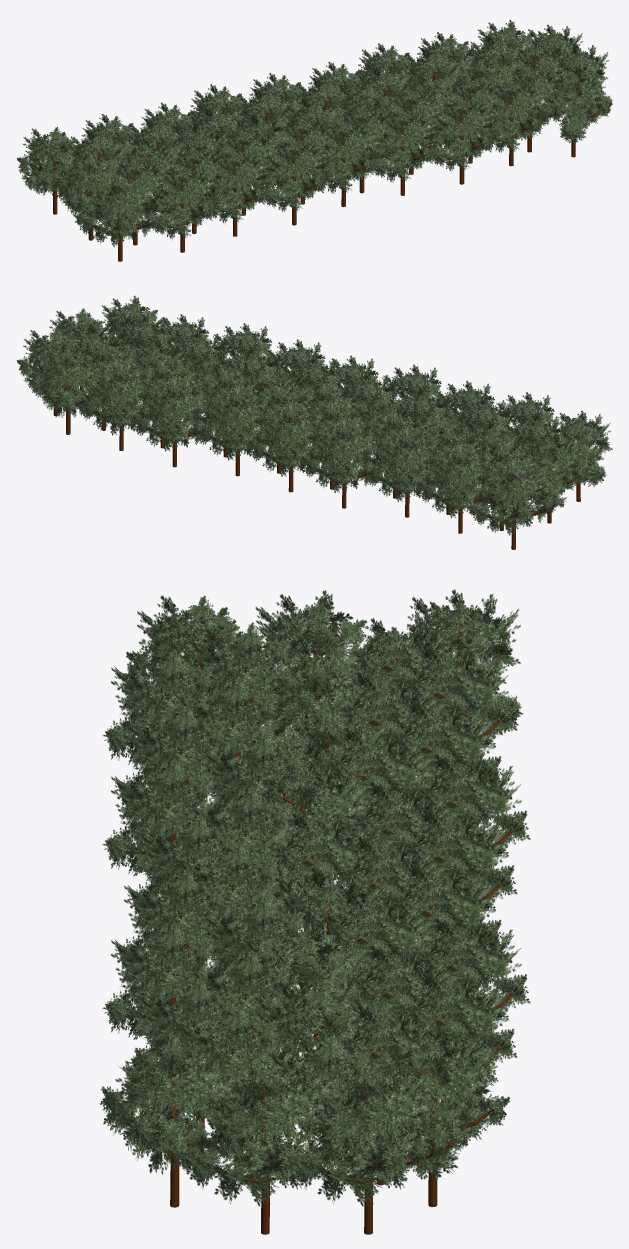
Rendered from treegrove2.glb.
The picture shows the model from 3 angles, top to bottom: view 1: azimuth 30°, elevation 25°; view 2: azimuth 150°, elevation 25°; view 3: azimuth 270°, elevation 25°; orthographic projection. The views are drawn at different scales.
Visible parts, largest first — view 1: treelineEW, treelineEW.006, treelineEW.003, treelineEW.001, treelineEW.005, treelineEW.002, treelineEW.008, treelineEW.004, treelineEW.007, treelineEW4, treelineTop, treelineEW2 (+33 smaller); view 2: treelineEW4, treelineEW4.003, treelineEW4.006, treelineEW4.001, treelineEW4.004, treelineEW4.007, treelineEW4.002, treelineEW4.005, treelineEW4.008, treelineTop, treelineEW, treelineEW3.008 (+33 smaller); view 3: treelineEW2.008, treelineEW3.008, treelineEW.008, treelineEW4.008, treelineEW.003, treelineEW.006, treelineEW4, treelineEW4.007, treelineEW4.003, treelineEW.001, treelineEW4.006, treelineEW4.001 (+33 smaller).
Boxes of the visible parts, bbox=[...] form: treelineEW: bbox=[72, 175, 171, 261]; treelineEW.006: bbox=[430, 97, 506, 184]; treelineEW.003: bbox=[262, 138, 339, 225]; treelineEW.001: bbox=[149, 165, 227, 252]; treelineEW.005: bbox=[371, 108, 445, 195]; treelineEW.002: bbox=[201, 149, 277, 236]; treelineEW.008: bbox=[542, 66, 612, 157]; treelineEW.004: bbox=[310, 120, 385, 207]; treelineEW.007: bbox=[478, 79, 555, 166]; treelineEW4: bbox=[17, 127, 80, 214]; treelineTop: bbox=[56, 152, 125, 240]; treelineEW2: bbox=[102, 158, 172, 245]; treelineEW4: bbox=[466, 462, 566, 549]; treelineEW4.003: bbox=[298, 420, 389, 508]; treelineEW4.006: bbox=[128, 379, 220, 467]; treelineEW4.001: bbox=[414, 445, 492, 533]; treelineEW4.004: bbox=[244, 404, 325, 492]; treelineEW4.007: bbox=[76, 362, 155, 450]; treelineEW4.002: bbox=[361, 429, 441, 517]; treelineEW4.005: bbox=[192, 388, 272, 476]; treelineEW4.008: bbox=[31, 346, 105, 434]; treelineTop: bbox=[517, 432, 588, 523]; treelineEW: bbox=[540, 410, 612, 501]; treelineEW3.008: bbox=[17, 327, 84, 415]; treelineEW2.008: bbox=[173, 1060, 364, 1234]; treelineEW3.008: bbox=[283, 1060, 474, 1234]; treelineEW.008: bbox=[99, 1031, 252, 1207]; treelineEW4.008: bbox=[366, 1025, 509, 1206]; treelineEW.003: bbox=[102, 758, 236, 902]; treelineEW.006: bbox=[102, 922, 234, 1053]; treelineEW4: bbox=[378, 589, 523, 757]; treelineEW4.007: bbox=[368, 972, 517, 1150]; treelineEW4.003: bbox=[379, 754, 530, 921]; treelineEW.001: bbox=[102, 649, 233, 811]; treelineEW4.006: bbox=[379, 918, 530, 1082]; treelineEW4.001: bbox=[366, 645, 517, 816].
Bounding box in the file's own units: 98.45 × 15.19 × 33.64.
Materials: 2 (1 with a texture image).
